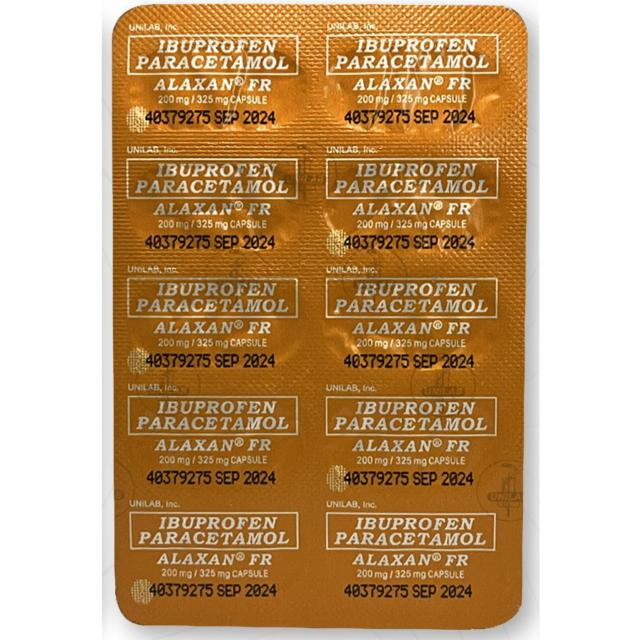blister: (112, 3, 528, 637)
